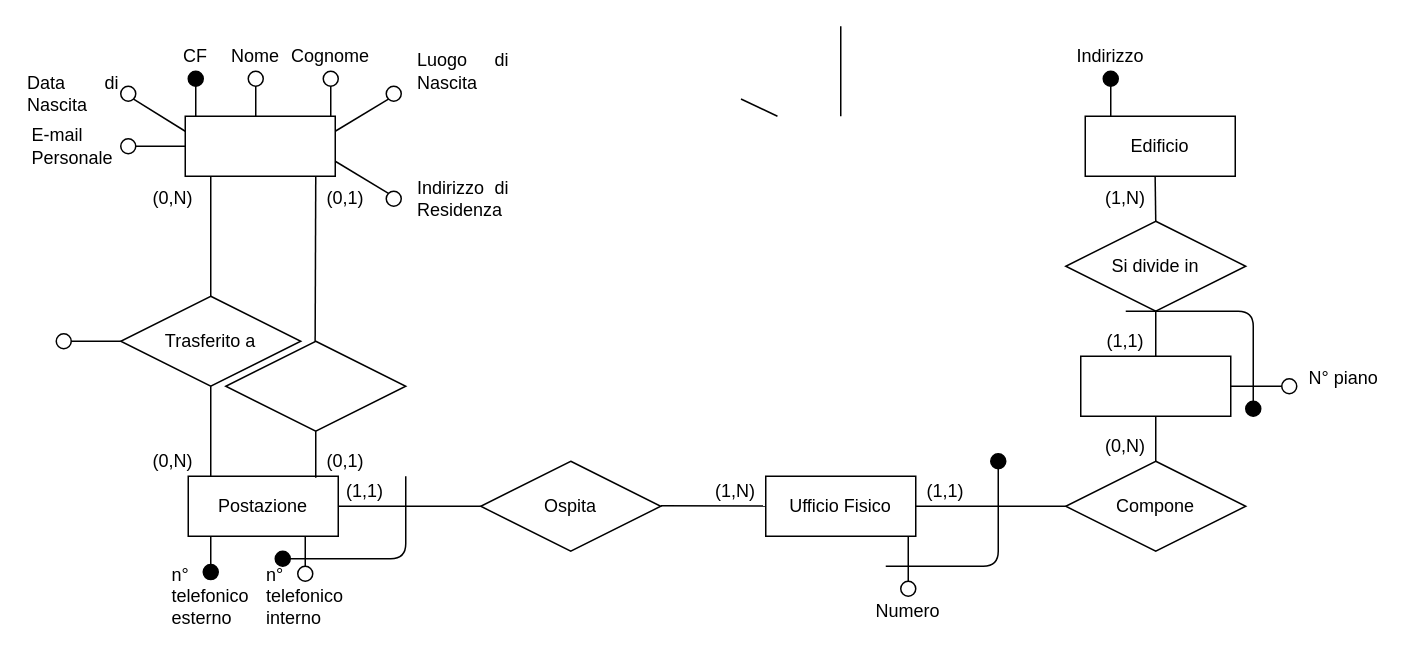
The diagram is 1416 pixels wide and 654 high, and some of its shapes have lost their labels. Here are the shapes that lost their labels. From the top down, the centre of each, then its label:
At point (259, 145): "Dipendente".
At point (315, 385): "Occupa".
At point (1155, 385): "Piano".
